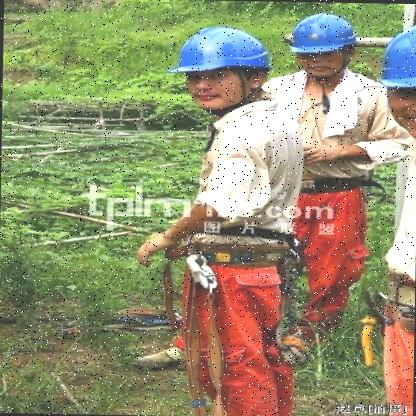capacete: (160, 20, 272, 112), (284, 7, 360, 80), (375, 15, 415, 144)
sem_colete_refletivo: (188, 98, 310, 237), (258, 70, 395, 182), (379, 137, 415, 289)
